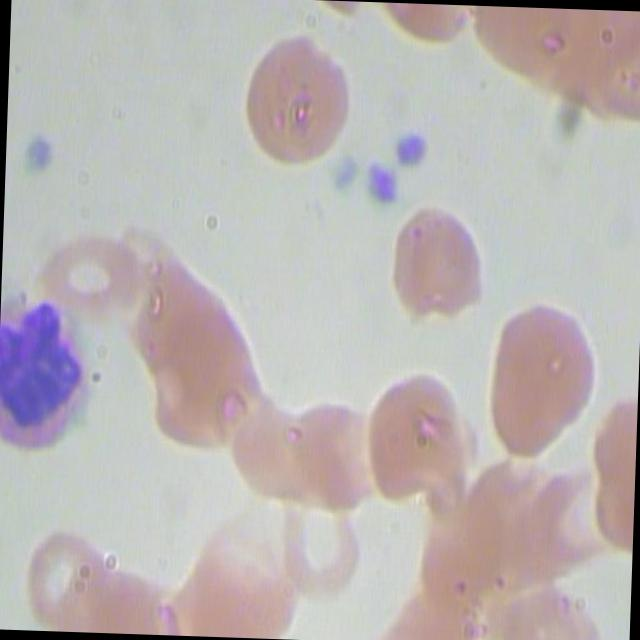Platelets: (386, 120, 429, 173), (18, 130, 61, 182), (362, 160, 398, 211), (325, 145, 361, 196)
RBC: (476, 295, 598, 459), (352, 346, 474, 510), (239, 27, 358, 168), (387, 197, 491, 328), (33, 218, 150, 316), (17, 513, 112, 630), (272, 484, 367, 600), (284, 396, 378, 513), (522, 458, 616, 575)
WBC: (0, 286, 94, 459)
